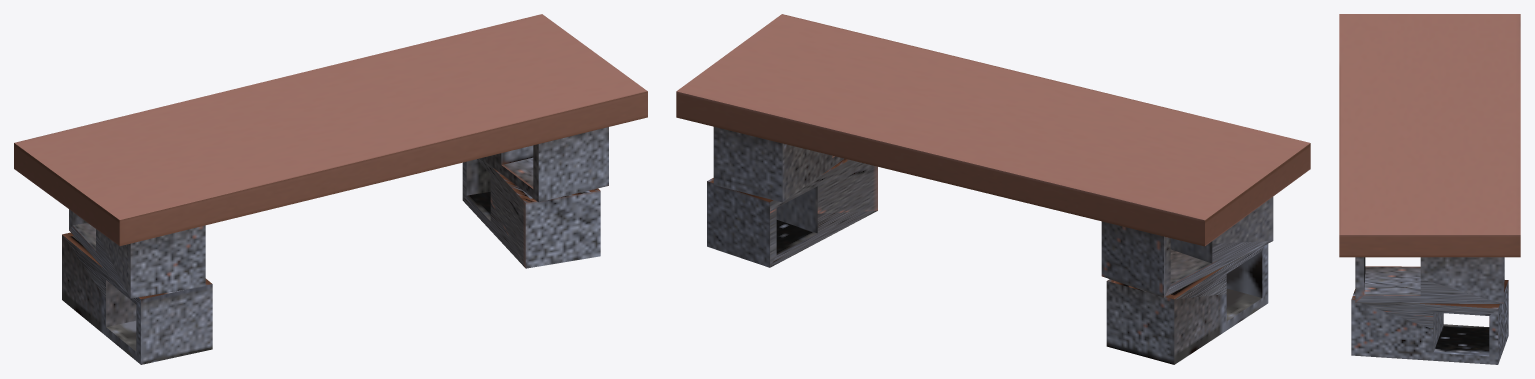
File: cinderstack01.fbx
The picture shows the model from 3 angles, left to right: view 1: azimuth 30°, elevation 25°; view 2: azimuth 150°, elevation 25°; view 3: azimuth 270°, elevation 25°; orthographic projection. The views are drawn at different scales.
Visible parts, largest first — view 1: Cube.013; view 2: Cube.013; view 3: Cube.013.
Boxes of the visible parts, <box> form: Cube.013: <box>14,14,647,364</box>; Cube.013: <box>676,14,1310,364</box>; Cube.013: <box>1339,14,1520,364</box>.
Size of the model in its own units: 1.19 by 0.4126 by 0.3454.
Materials: 1 (1 with a texture image).
